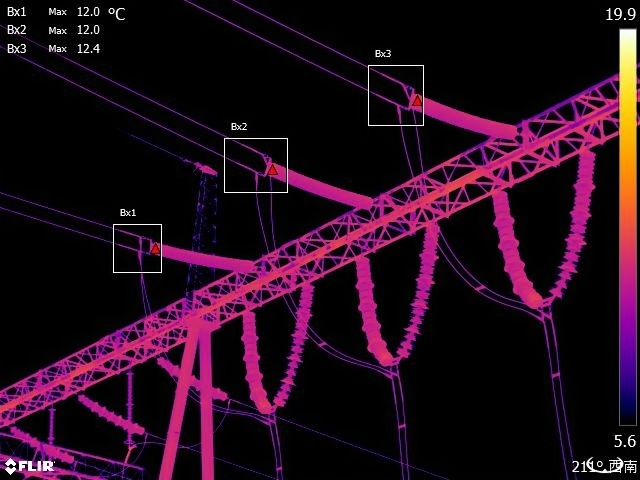clamp: (392, 78, 412, 112), (248, 147, 270, 177), (132, 229, 147, 260), (533, 306, 556, 326), (384, 366, 404, 383), (262, 416, 282, 429)
insulator: (551, 138, 604, 295), (486, 184, 545, 305), (258, 150, 372, 210), (400, 211, 440, 360), (277, 273, 317, 411), (401, 95, 521, 139), (354, 247, 397, 365), (150, 241, 263, 274), (241, 310, 275, 419), (155, 355, 230, 403), (12, 424, 76, 468), (81, 392, 143, 433), (119, 368, 138, 449), (44, 400, 61, 468)
